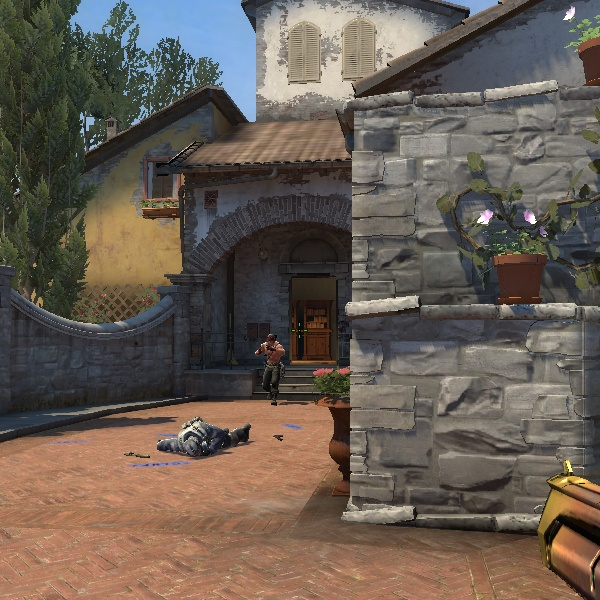t_body: (252, 330, 287, 396)
